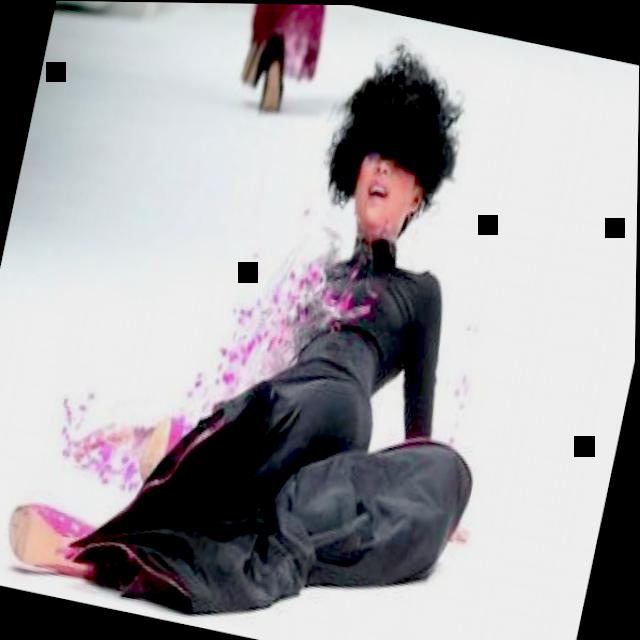Fall-Detected: (10, 0, 560, 640)
